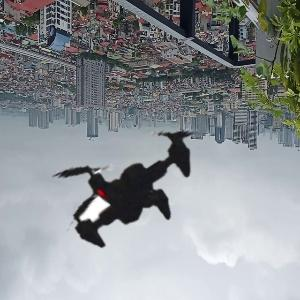drone: (13, 64, 242, 293)
